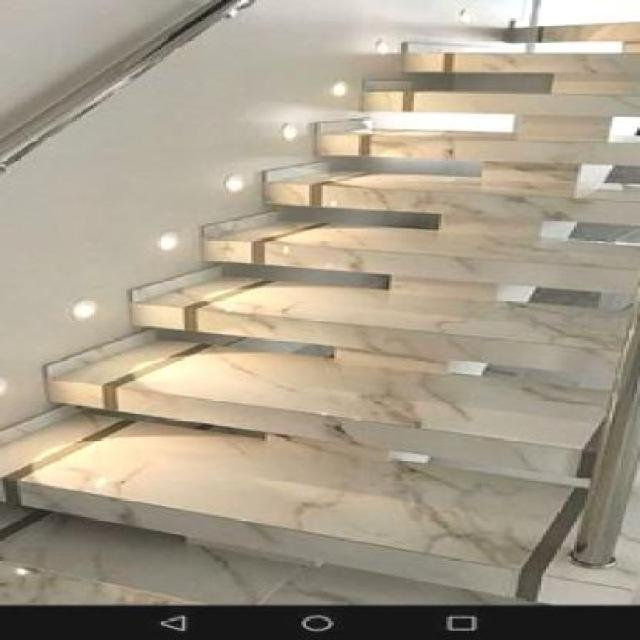stair: (0, 1, 637, 604)
